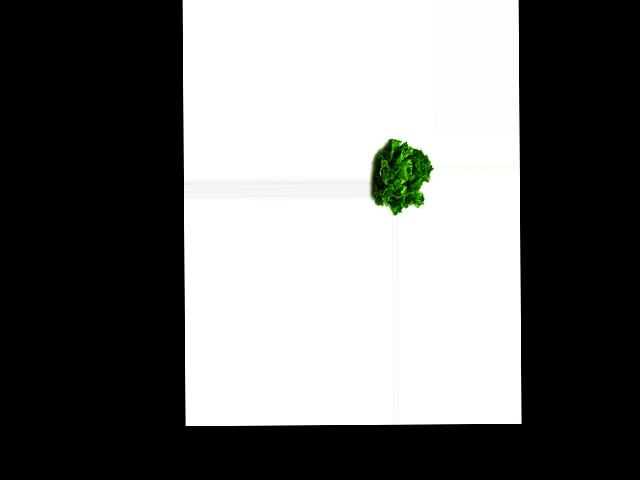lettuce: (370, 140, 432, 214)
